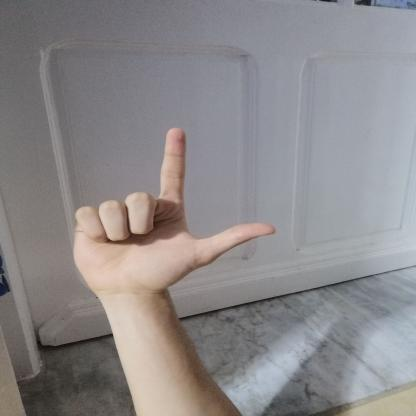LAAM: (53, 119, 288, 307)
